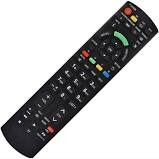remote control: (2, 0, 159, 159)
